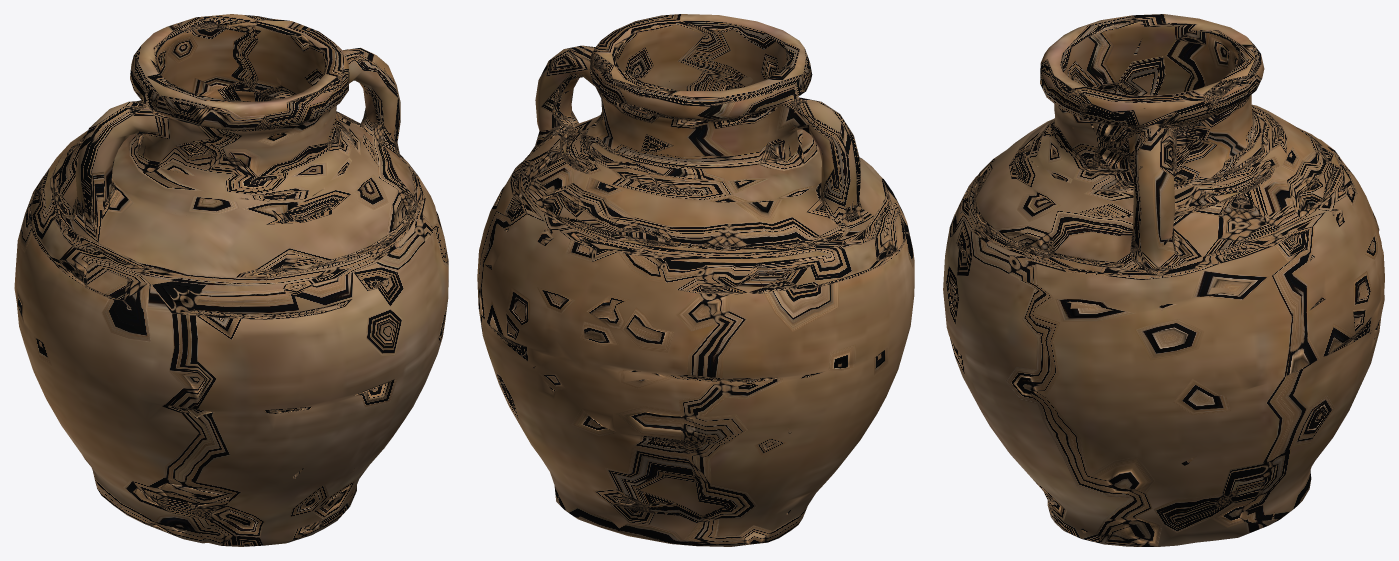
Rendered from oil-jar-pixal3d.glb.
3 views of the same model, side by side, from view 1: azimuth 30°, elevation 25°; view 2: azimuth 150°, elevation 25°; view 3: azimuth 270°, elevation 25° (orthographic).
Parts seen in each view (by area): view 1: geometry_0; view 2: geometry_0; view 3: geometry_0.
Part boxes in pixels (x1,y1,x2,y2): geometry_0: (14,14,448,546); geometry_0: (477,14,914,546); geometry_0: (943,14,1384,546).
Bounding box in the file's own units: 0.2456 × 0.2797 × 0.2469.
1 material, 1 textured.
